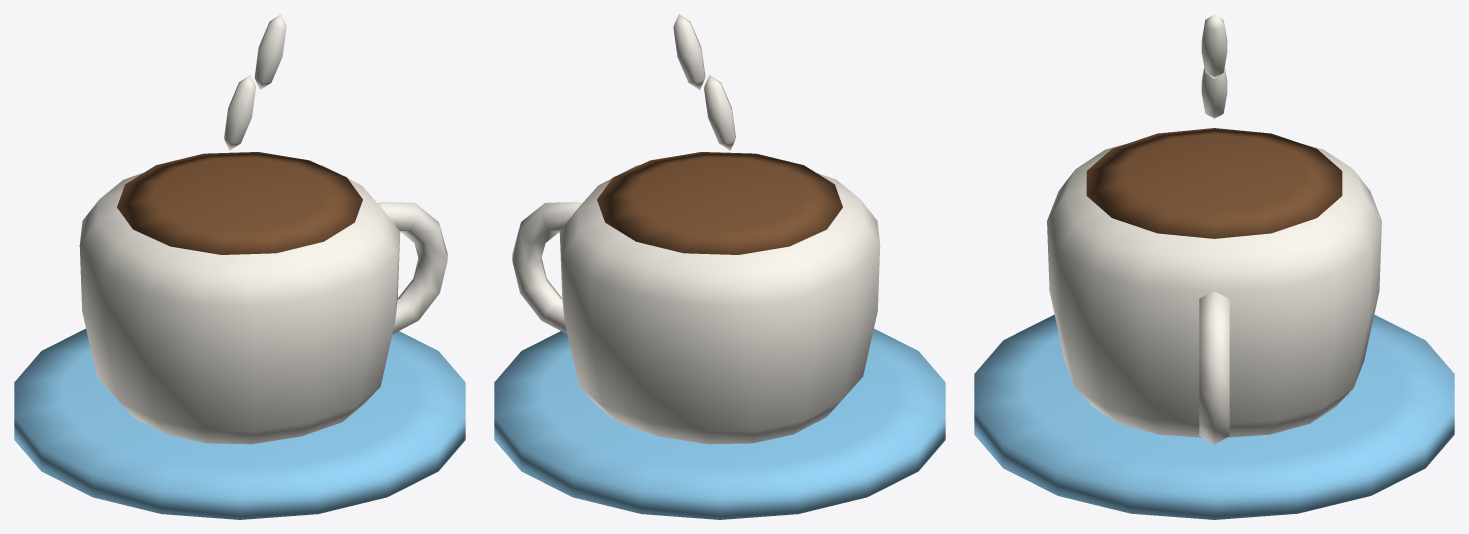
The model's file is tea.glb.
3 renders of one model, left to right at view 1: azimuth 30°, elevation 25°; view 2: azimuth 150°, elevation 25°; view 3: azimuth 270°, elevation 25°, orthographic. The views are drawn at different scales.
Parts seen in each view (by area): view 1: item; view 2: item; view 3: item.
Part boxes in pixels (bbox=[...]): item: bbox=[14, 14, 465, 519]; item: bbox=[494, 14, 945, 519]; item: bbox=[974, 14, 1454, 519].
Bounding box in the file's own units: 0.399 × 0.3834 × 0.3842.
1 material, 1 textured.
